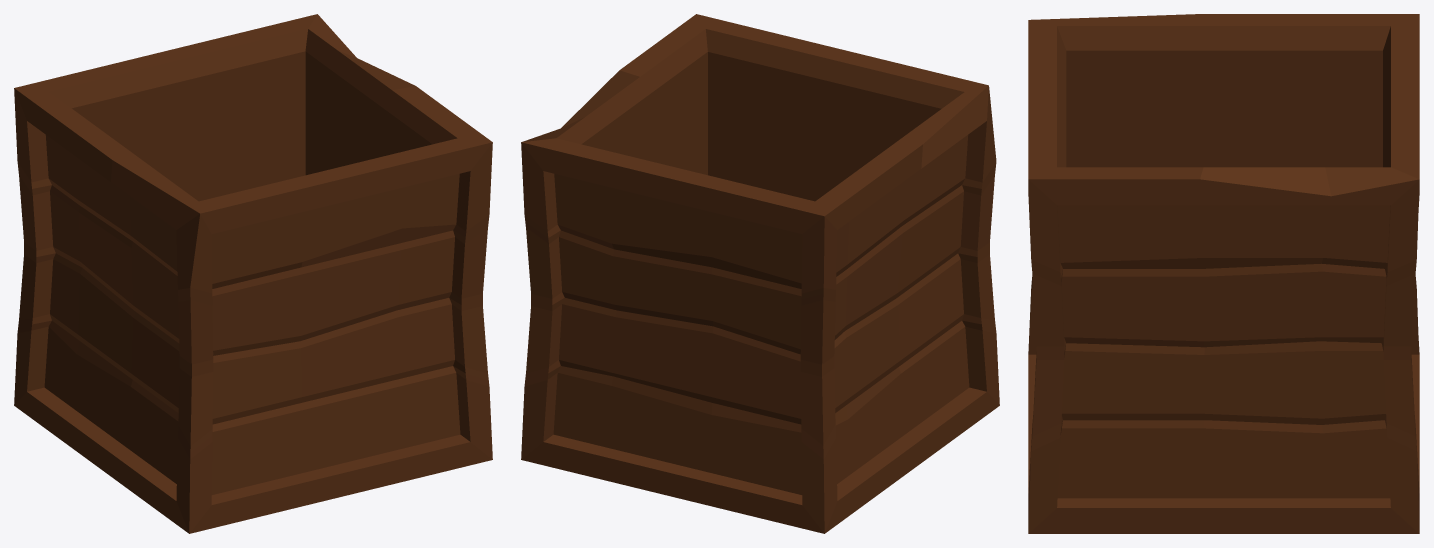
File: Crate open.fbx
3 renders of one model, left to right at view 1: azimuth 30°, elevation 25°; view 2: azimuth 150°, elevation 25°; view 3: azimuth 270°, elevation 25°, orthographic. The views are drawn at different scales.
Visible parts, largest first — view 1: Crate open; view 2: Crate open; view 3: Crate open.
Boxes of the visible parts, left/top/right/bottom form: Crate open: left=14, top=14, right=492, bottom=533; Crate open: left=521, top=14, right=999, bottom=533; Crate open: left=1028, top=14, right=1419, bottom=533.
Bounding box in the file's own units: 200 × 200 × 200.
